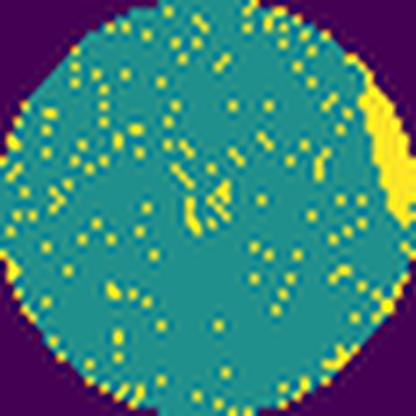Edge-Loc: (349, 53, 416, 226)
